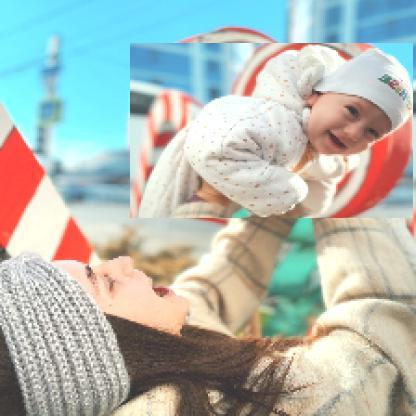child: (131, 44, 415, 220)
